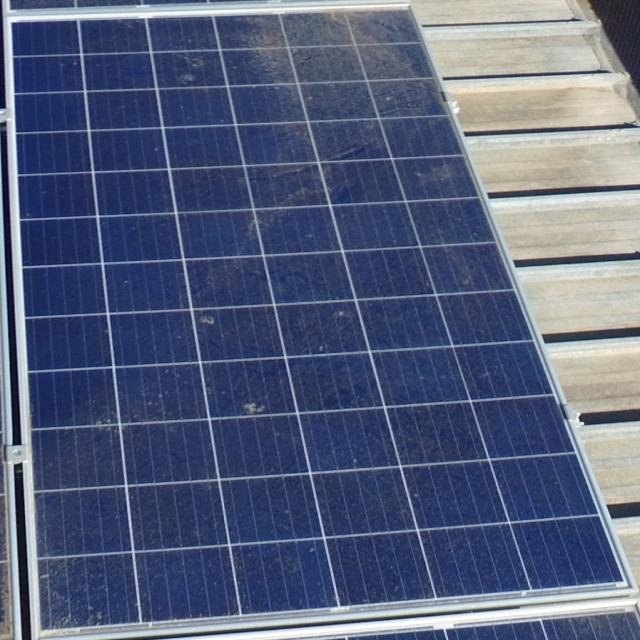Dust: (225, 15, 454, 204), (21, 467, 137, 640)
bird-droppings: (232, 397, 270, 416), (197, 318, 223, 330)
